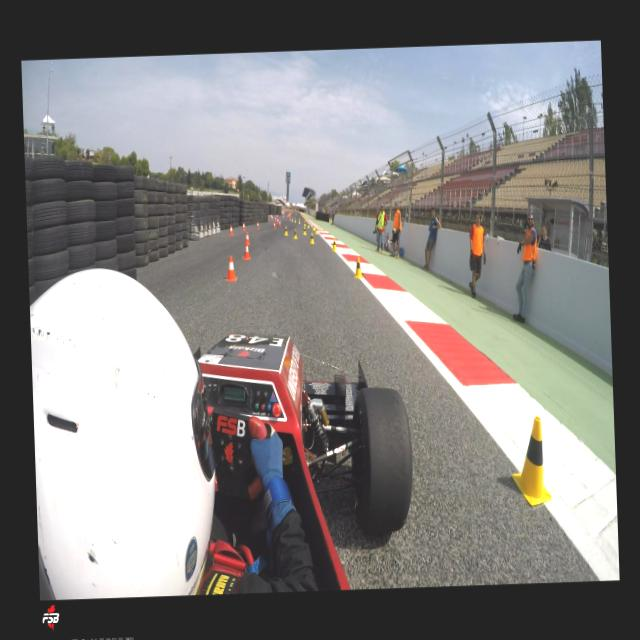orange_cone: (224, 256, 237, 280), (242, 239, 250, 259), (244, 231, 249, 244), (230, 224, 232, 235), (242, 221, 244, 230), (256, 220, 258, 228), (273, 222, 275, 228), (278, 220, 280, 226), (276, 218, 278, 224)
yellow_cone: (509, 415, 552, 506), (353, 256, 362, 278), (332, 238, 336, 251), (310, 232, 314, 243), (293, 228, 297, 238), (284, 225, 288, 235), (302, 226, 306, 235), (314, 226, 318, 234), (303, 220, 305, 227), (312, 224, 314, 230), (306, 222, 308, 228), (298, 218, 300, 224), (294, 217, 296, 223), (291, 216, 293, 221), (290, 215, 290, 220)
